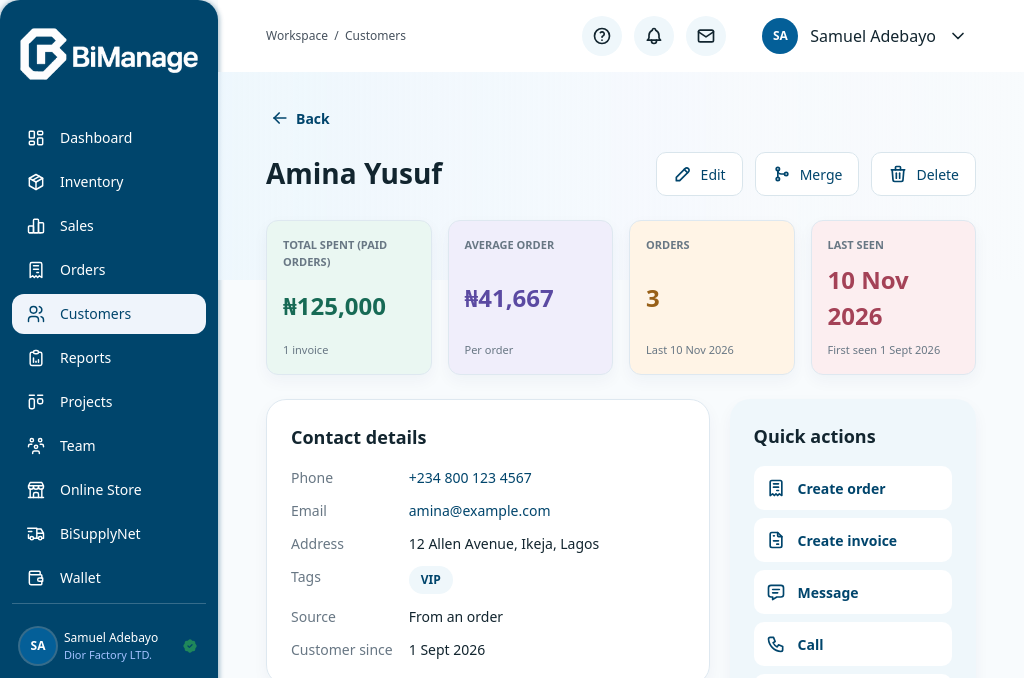
Test: customer profile › Create order opens the order form with the customer filled in
This screenshot has width=1024, height=678.
Click the link "Create order". click: (853, 488)
box: [754, 466, 952, 510]
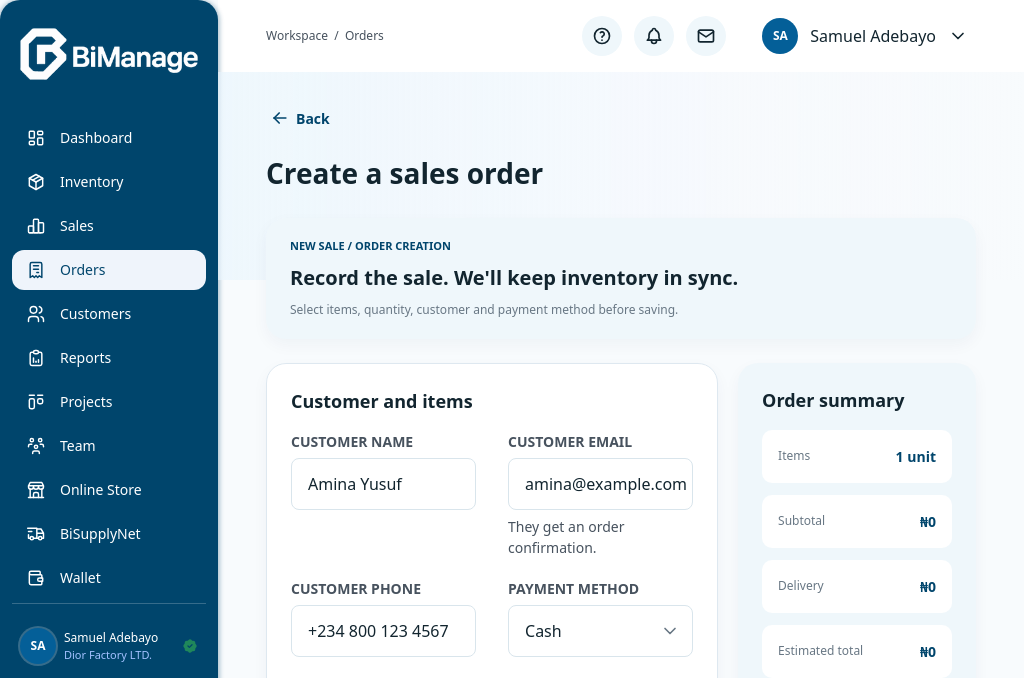
Expected: the field showing "Amina Yusuf" is shown, [308, 458, 469, 508]
Expected: the field showing "amina@example.com" is shown, [525, 458, 686, 508]
